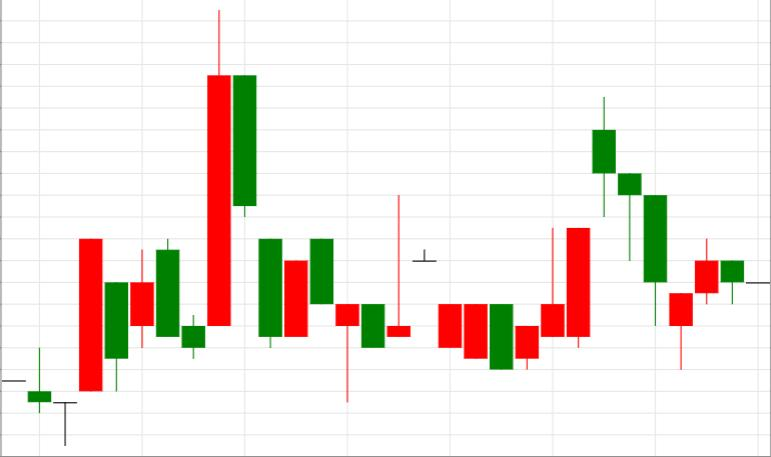hammer_rise: (592, 98, 692, 370)
